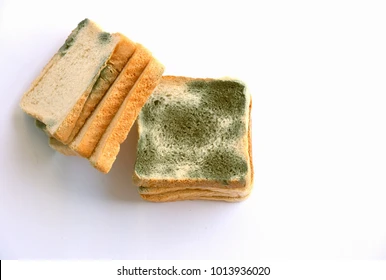mold_bread: (162, 151, 251, 186), (188, 77, 255, 115), (159, 105, 217, 148), (137, 133, 159, 179), (220, 120, 248, 145), (139, 97, 159, 130), (92, 55, 111, 82), (55, 37, 75, 55), (37, 116, 57, 132), (76, 16, 90, 35), (98, 30, 112, 45)
